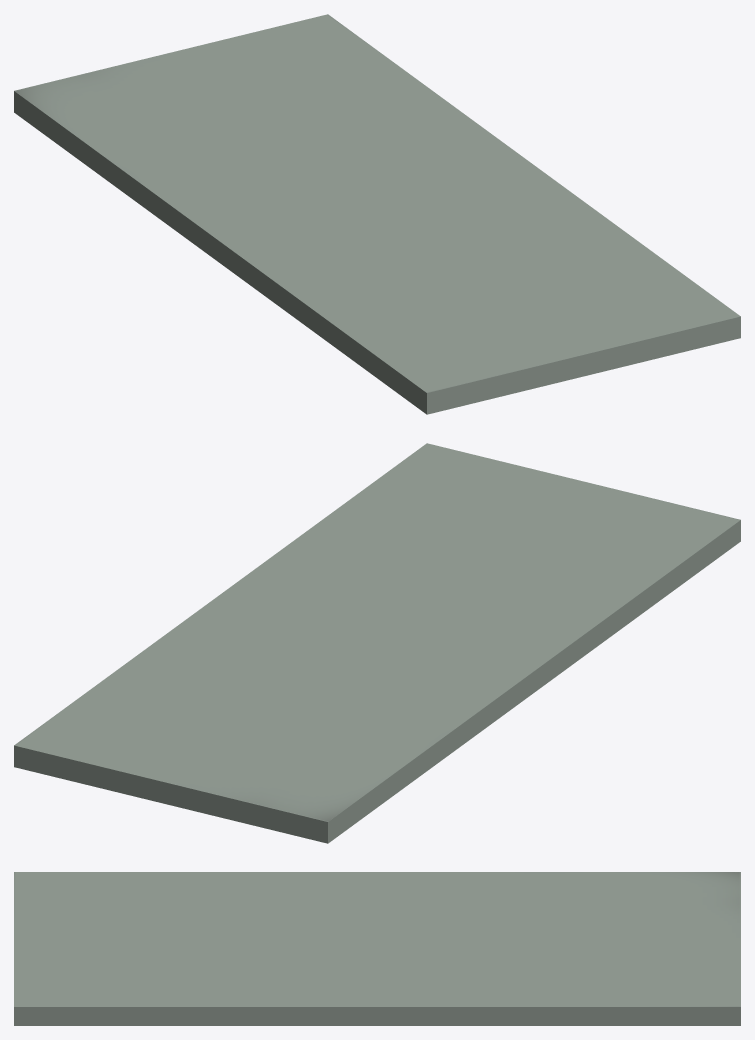
File: driveway.000.obj
3 views of the same model, one above another, from view 1: azimuth 30°, elevation 25°; view 2: azimuth 150°, elevation 25°; view 3: azimuth 270°, elevation 25° (orthographic). The views are drawn at different scales.
Visible parts, largest first — view 1: Driveway.000; view 2: Driveway.000; view 3: Driveway.000.
Part boxes in pixels (bbox=[...]): Driveway.000: bbox=[14, 14, 740, 414]; Driveway.000: bbox=[14, 443, 740, 843]; Driveway.000: bbox=[14, 872, 740, 1025].
Bounding box in the file's own units: 0.5968 × 0.0393 × 1.36.
Materials: 1 (1 with a texture image).
